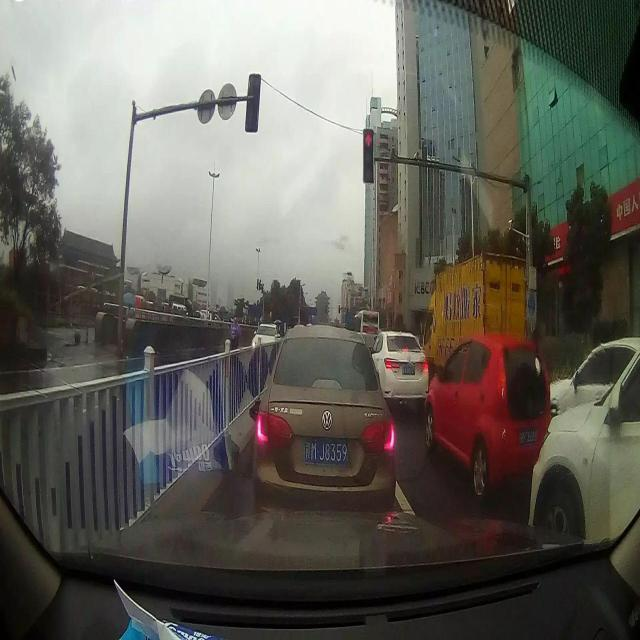car: (254, 318, 396, 525), (424, 331, 550, 501), (370, 327, 428, 402)
